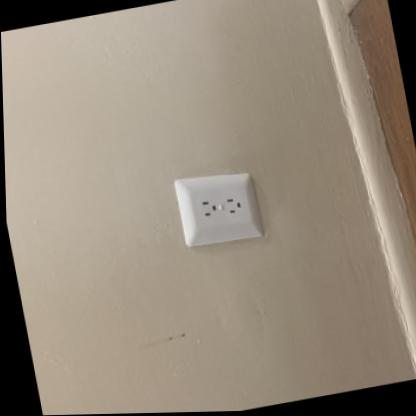OUTLET: (170, 163, 266, 253)
